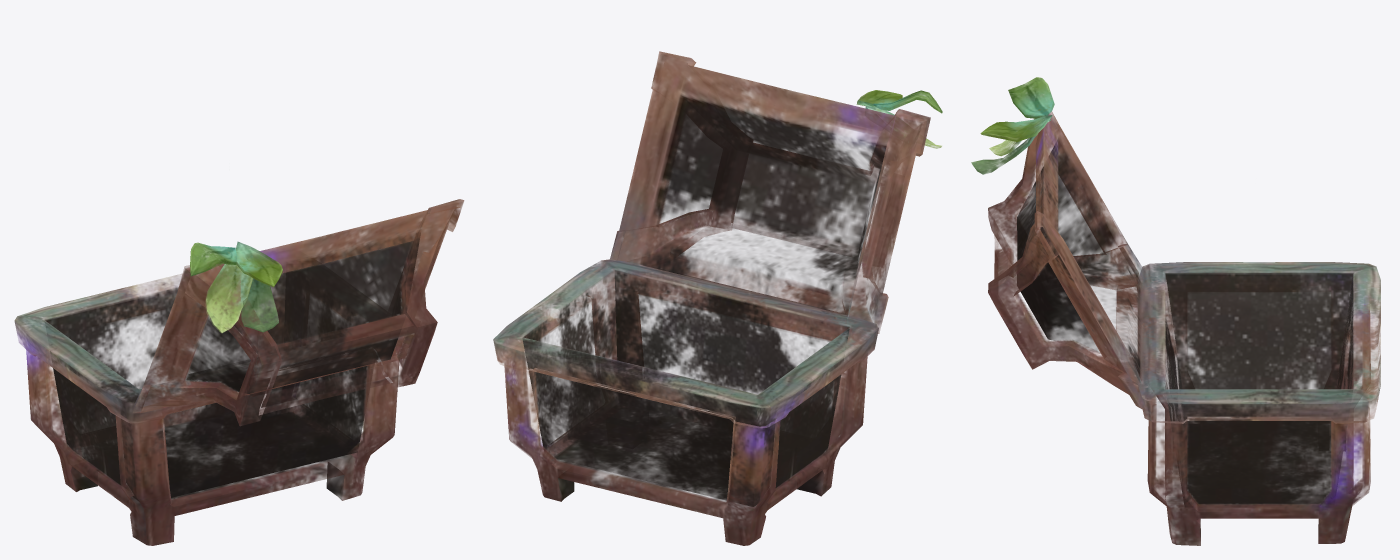
The model's file is PRP_Chest_Gold.glb.
3 views of the same model, side by side, from view 1: azimuth 30°, elevation 25°; view 2: azimuth 150°, elevation 25°; view 3: azimuth 270°, elevation 25° (orthographic). The views are drawn at different scales.
Parts seen in each view (by area): view 1: polySurface40_lambert1_0; view 2: polySurface40_lambert1_0; view 3: polySurface40_lambert1_0.
Part boxes in pixels (left/top/right/bottom): polySurface40_lambert1_0: left=14, top=199, right=464, bottom=545; polySurface40_lambert1_0: left=493, top=51, right=942, bottom=545; polySurface40_lambert1_0: left=971, top=77, right=1380, bottom=545.
Bounding box in the file's own units: 1.49 × 1.93 × 1.52.
Materials: 1 (1 with a texture image).
